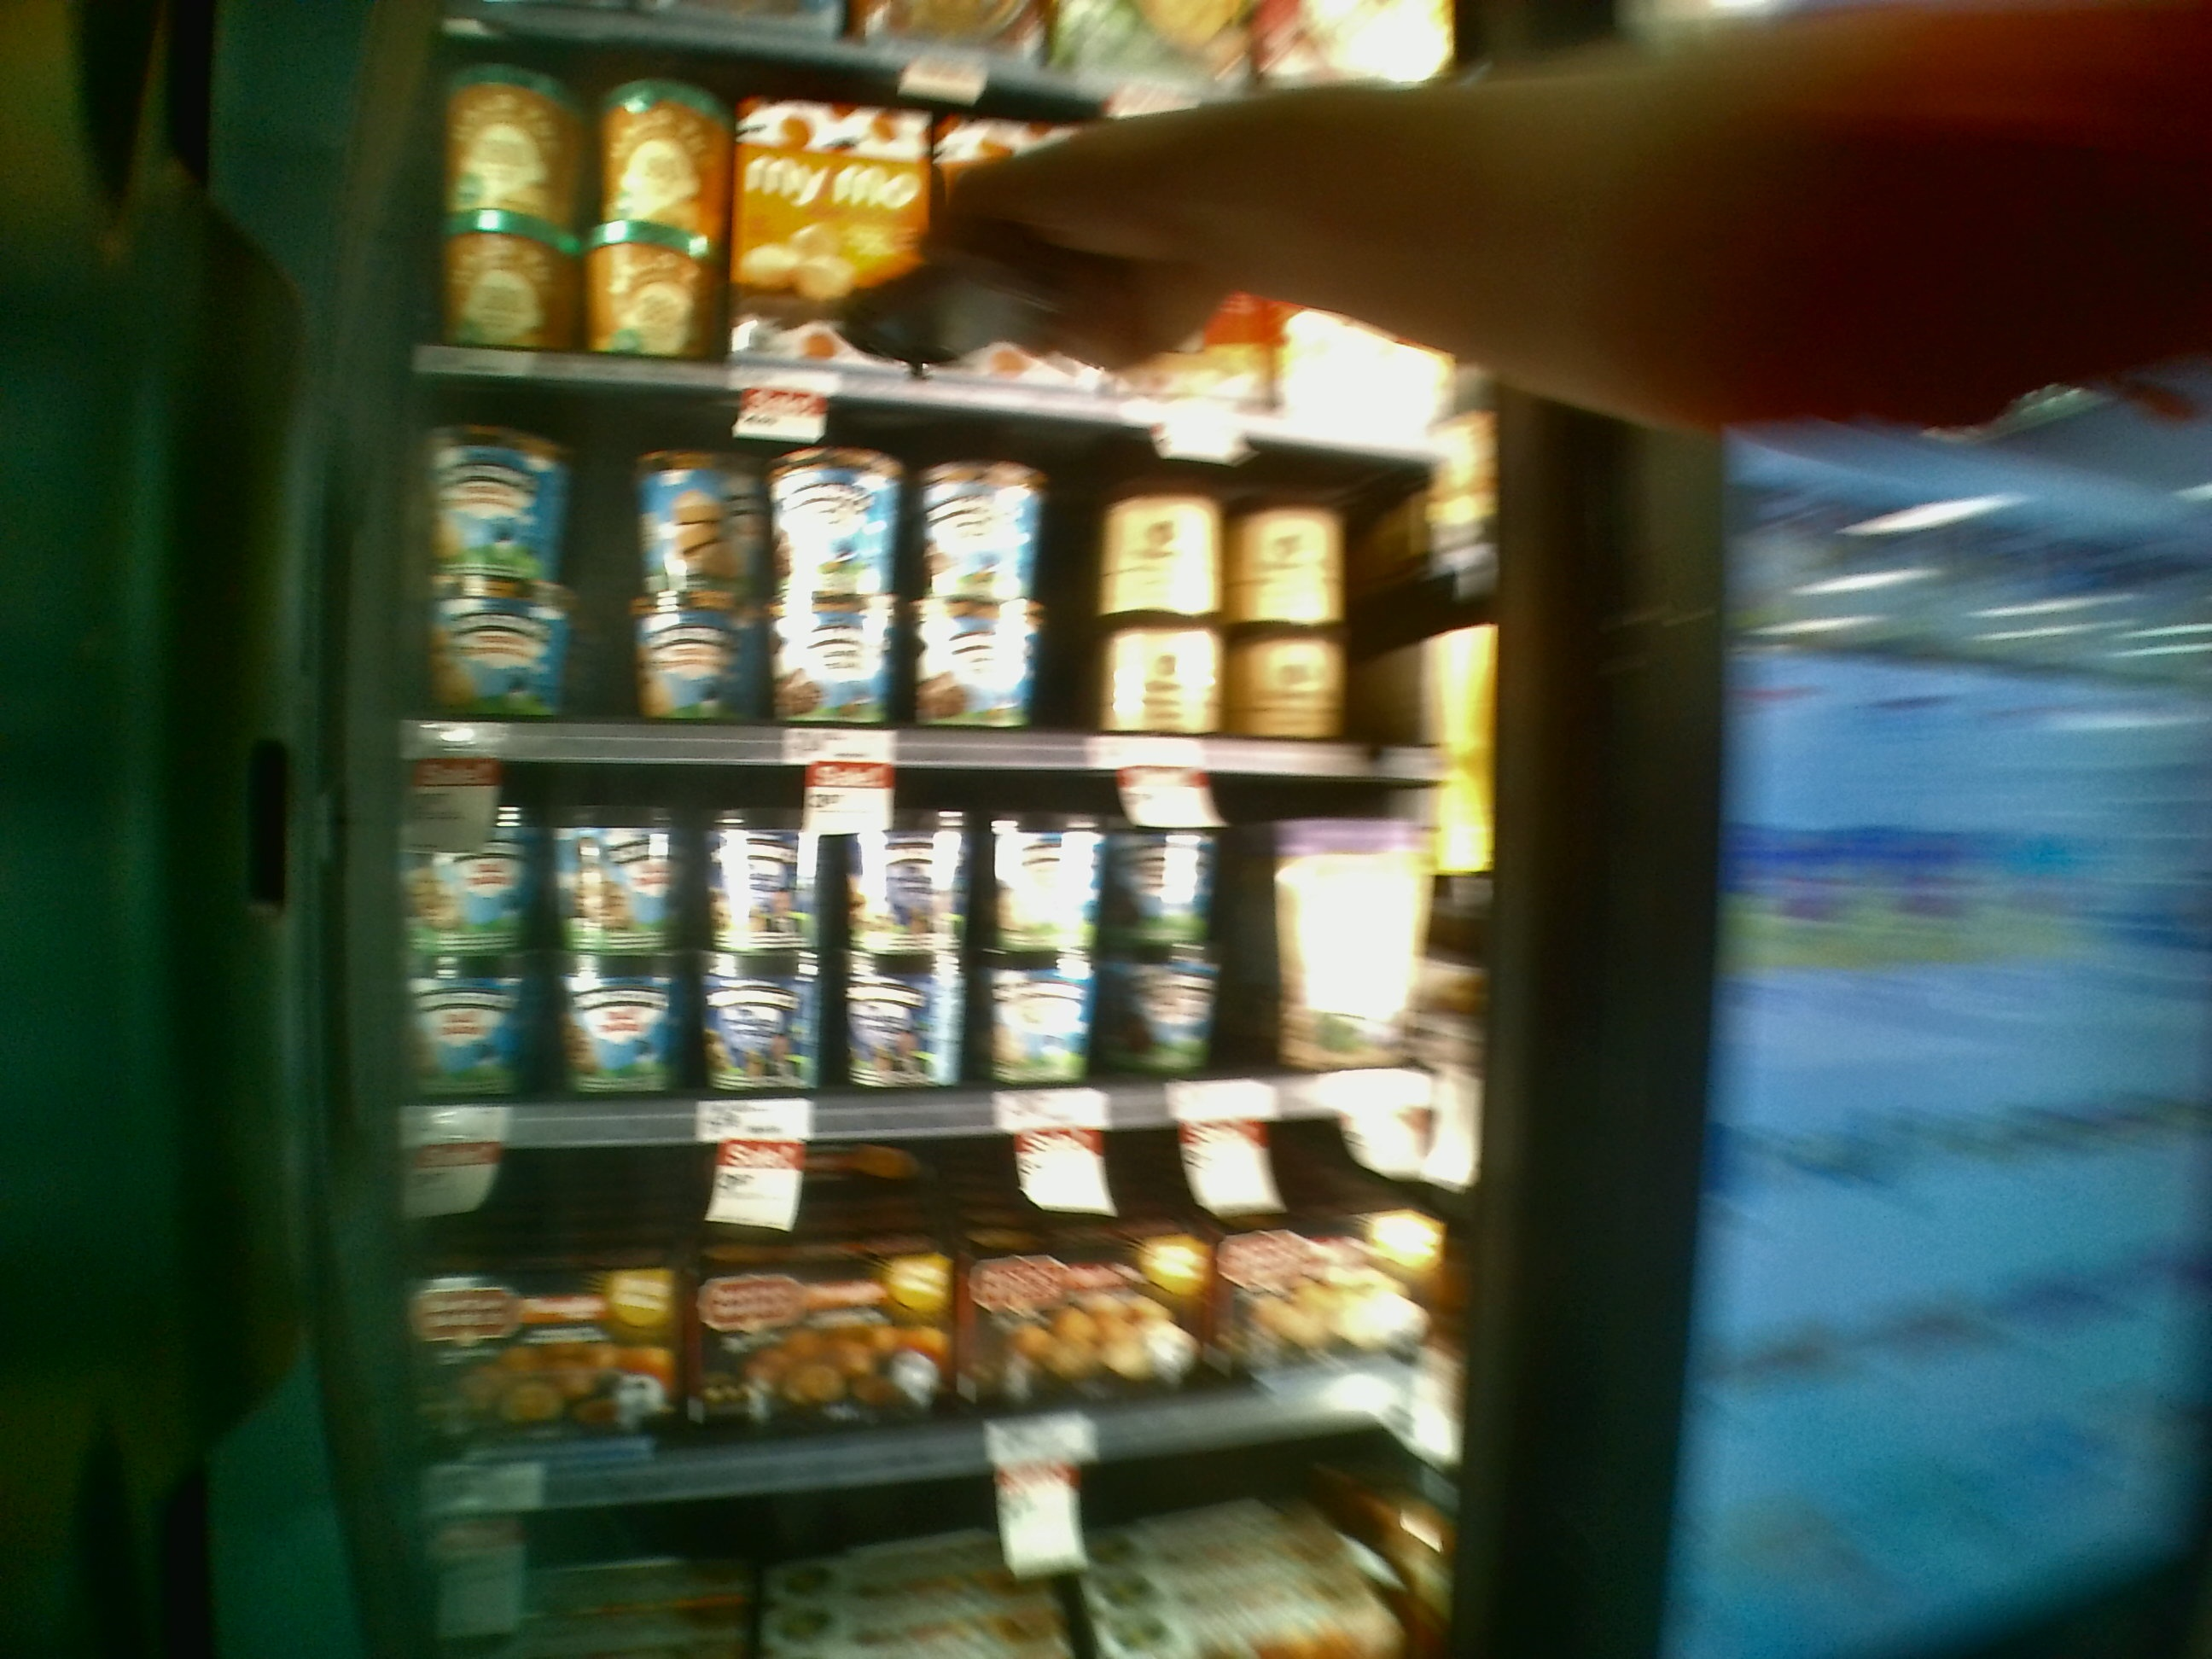shelf: (374, 735, 1498, 1140), (409, 404, 1498, 791), (345, 1159, 1498, 1492)
